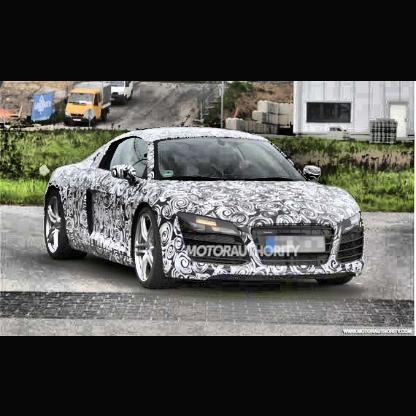Audi R8 Coupe 2012: (43, 124, 370, 291)
